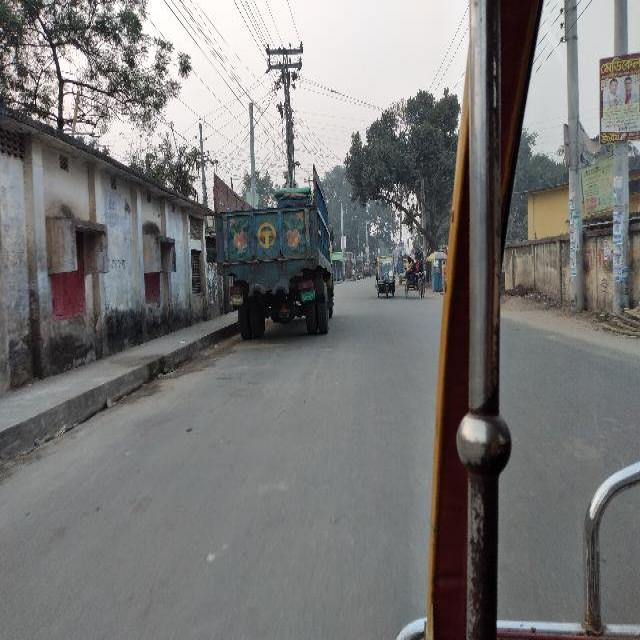bike: (353, 269, 357, 282), (357, 272, 361, 280)
vehicle: (212, 164, 349, 345), (406, 254, 428, 300), (375, 256, 397, 298), (397, 252, 411, 276), (404, 262, 408, 276)
